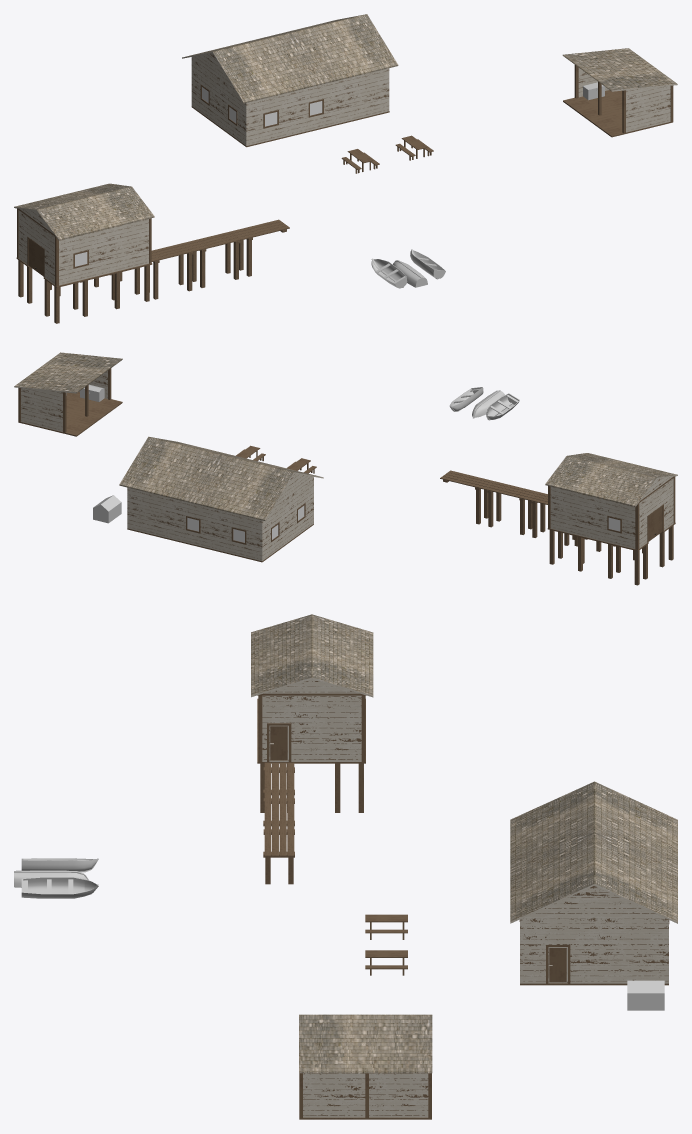
Rendered from FishingHause.fbx.
3 views of the same model, one above another, from view 1: azimuth 30°, elevation 25°; view 2: azimuth 150°, elevation 25°; view 3: azimuth 270°, elevation 25° (orthographic). The views are drawn at different scales.
Parts seen in each view (by area): view 1: FermHauseС.004, FermHausС.001, FermHaus.019, FermHauseС.007, Poloskalka.001, FermHauseС.005, FermHaus.022, FermHauseС.006, FermHaus.020, Lodka.001, Lodka.002; view 2: FermHauseС.004, FermHausС.001, FermHaus.019, FermHauseС.007, Poloskalka.001, FermHauseС.005, FermHaus.022, FermHauseС.006, FermHaus.020, CivilSkladKPP.001, Lodka.001, Lodka.002 (+2 smaller); view 3: FermHauseС.004, FermHausС.001, FermHauseС.007, FermHauseС.005, FermHaus.019, FermHaus.022, Poloskalka.001, Lodka.002, FermHauseС.006, CivilSkladKPP.001, Lodka.001, FarmDoor1.011 (+1 smaller).
Part boxes in pixels (x1,y1,x2,y2): FermHauseС.004: (182,14,398,103); FermHausС.001: (191,53,389,145); FermHaus.019: (17,209,151,286); FermHauseС.007: (14,183,154,240); Poloskalka.001: (149,219,289,299); FermHauseС.005: (562,48,677,91); FermHaus.022: (574,65,673,133); FermHauseС.006: (16,257,152,323); FermHaus.020: (563,90,673,137); Lodka.001: (371,258,407,288); Lodka.002: (410,249,445,279); FermHauseС.004: (119,436,323,520); FermHausС.001: (127,473,313,561); FermHaus.019: (548,476,675,549); FermHauseС.007: (545,453,677,506); Poloskalka.001: (440,470,574,545); FermHauseС.005: (14,352,122,393); FermHaus.022: (18,368,111,432); FermHauseС.006: (547,523,675,585); FermHaus.020: (18,392,122,436); CivilSkladKPP.001: (93,495,121,523); Lodka.001: (486,393,519,420); Lodka.002: (449,387,483,411); FermHauseС.004: (510,781,677,923); FermHausС.001: (519,885,669,983); FermHauseС.007: (251,614,373,697); FermHauseС.005: (299,1014,432,1073); FermHaus.019: (258,695,365,761); FermHaus.022: (299,1073,431,1117); Poloskalka.001: (263,762,294,884); Lodka.002: (21,877,98,898); FermHauseС.006: (257,698,365,812); CivilSkladKPP.001: (627,980,664,1010); Lodka.001: (21,858,98,872); FarmDoor1.011: (269,725,288,761).
Size of the model in its own units: 5360 by 930 by 3562.
